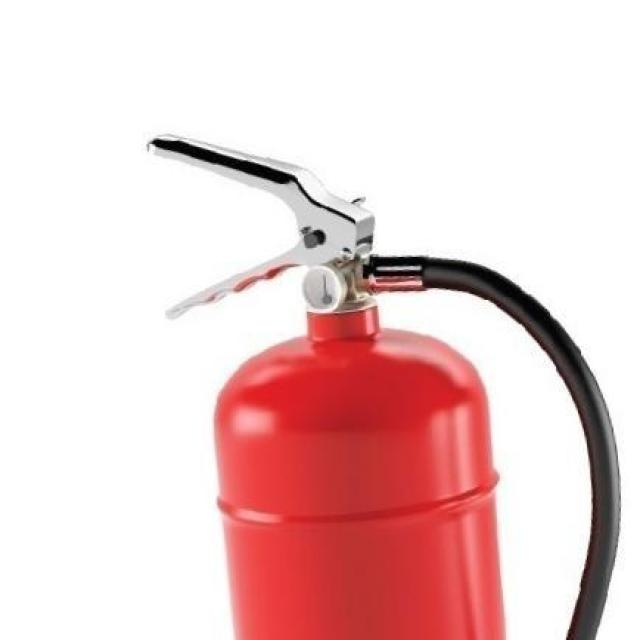fire_extinguisher: (138, 124, 626, 638)
